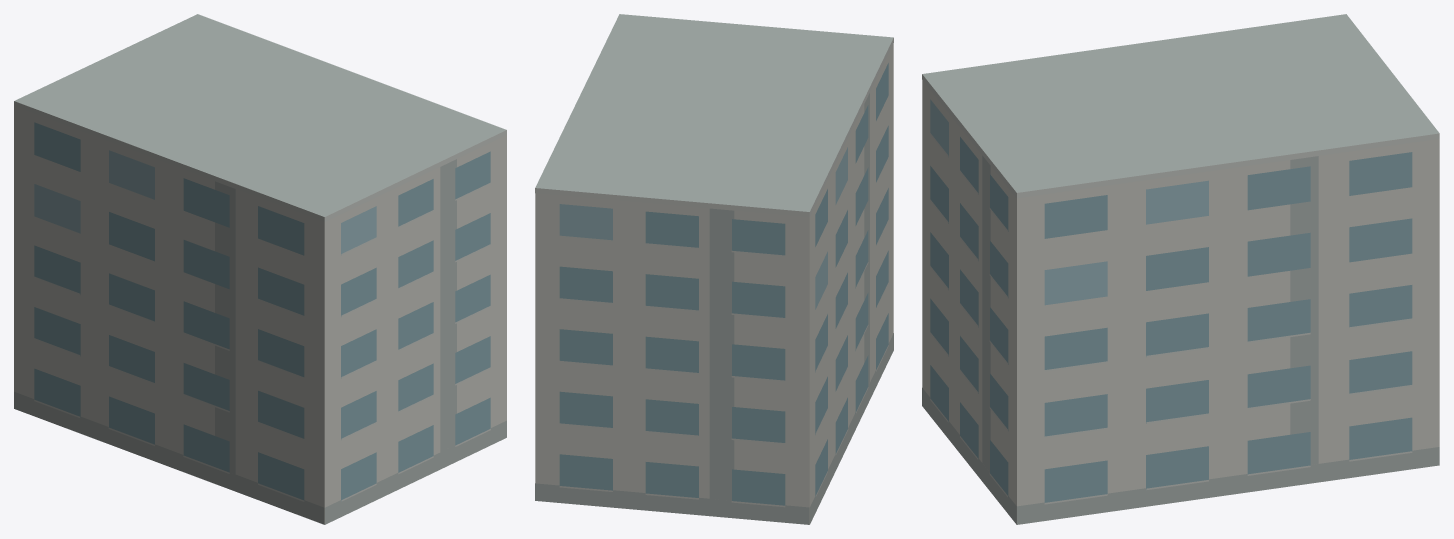
The model's file is survey-upis-33038355.glb.
3 views of the same model, side by side, from view 1: azimuth 30°, elevation 25°; view 2: azimuth 150°, elevation 25°; view 3: azimuth 270°, elevation 25° (orthographic). The views are drawn at different scales.
Visible parts, largest first — view 1: survey-upis-33038355.tmp; view 2: survey-upis-33038355.tmp; view 3: survey-upis-33038355.tmp.
Part boxes in pixels (left/top/right/bottom): survey-upis-33038355.tmp: left=14, top=14, right=506, bottom=524; survey-upis-33038355.tmp: left=535, top=14, right=893, bottom=524; survey-upis-33038355.tmp: left=922, top=14, right=1439, bottom=524.
Bounding box in the file's own units: 16.89 × 14.6 × 20.64.
